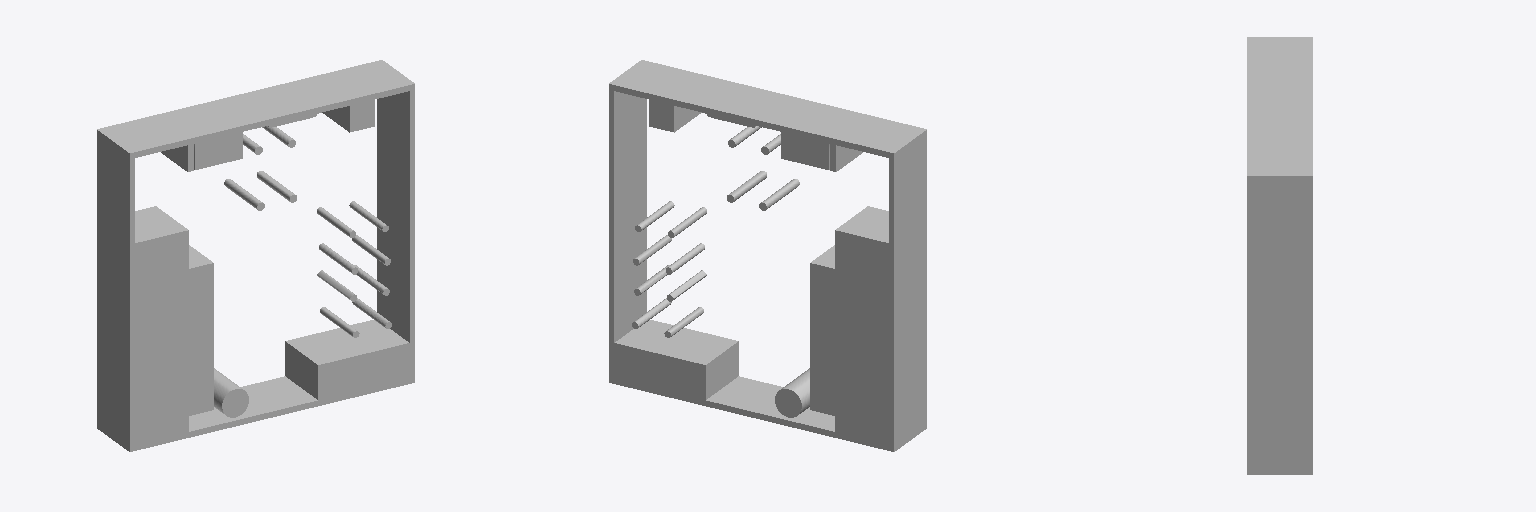
File: kitchen.obj
3 views of the same model, side by side, from view 1: azimuth 30°, elevation 25°; view 2: azimuth 150°, elevation 25°; view 3: azimuth 270°, elevation 25° (orthographic).
Visible parts, largest first — view 1: Curve.013_mesh_Curve.013; view 2: Curve.013_mesh_Curve.013; view 3: Curve.013_mesh_Curve.013.
Part boxes in pixels (x1,y1,x2,y2): Curve.013_mesh_Curve.013: (97,60,414,451); Curve.013_mesh_Curve.013: (609,60,926,451); Curve.013_mesh_Curve.013: (1247,37,1312,474).
Size of the model in its own units: 1 by 1 by 0.2.